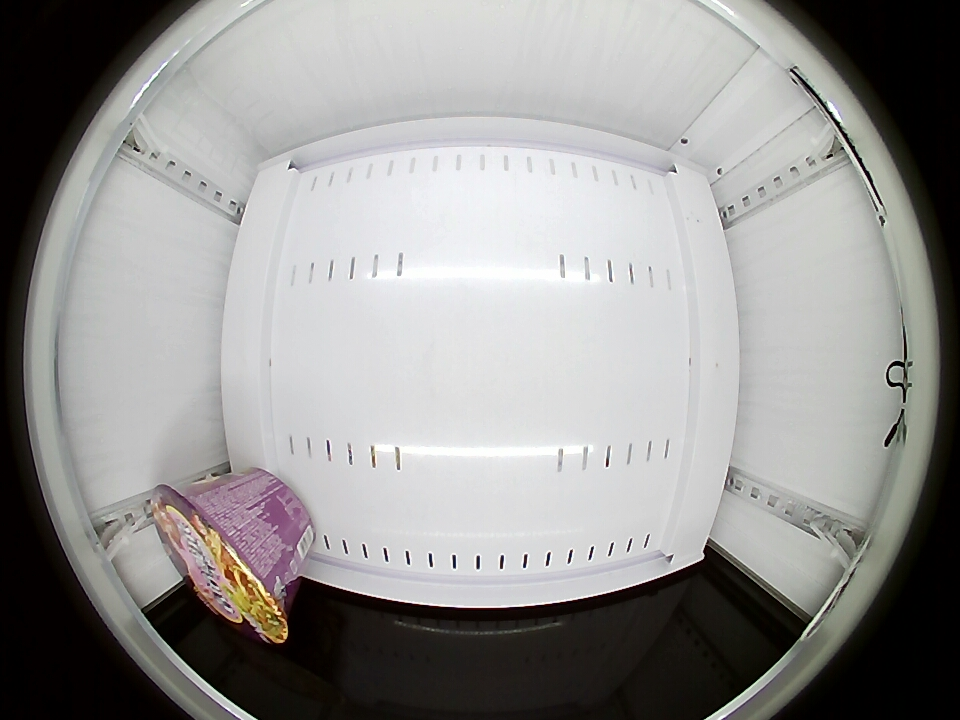laotansuancai: (151, 483, 291, 644)
